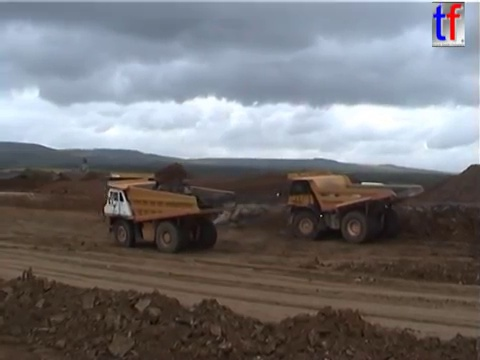truck: (274, 168, 425, 243), (101, 177, 235, 254), (104, 169, 192, 223)
